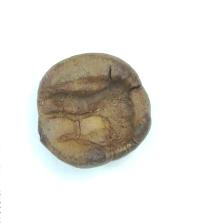NG: (39, 69, 145, 161)
